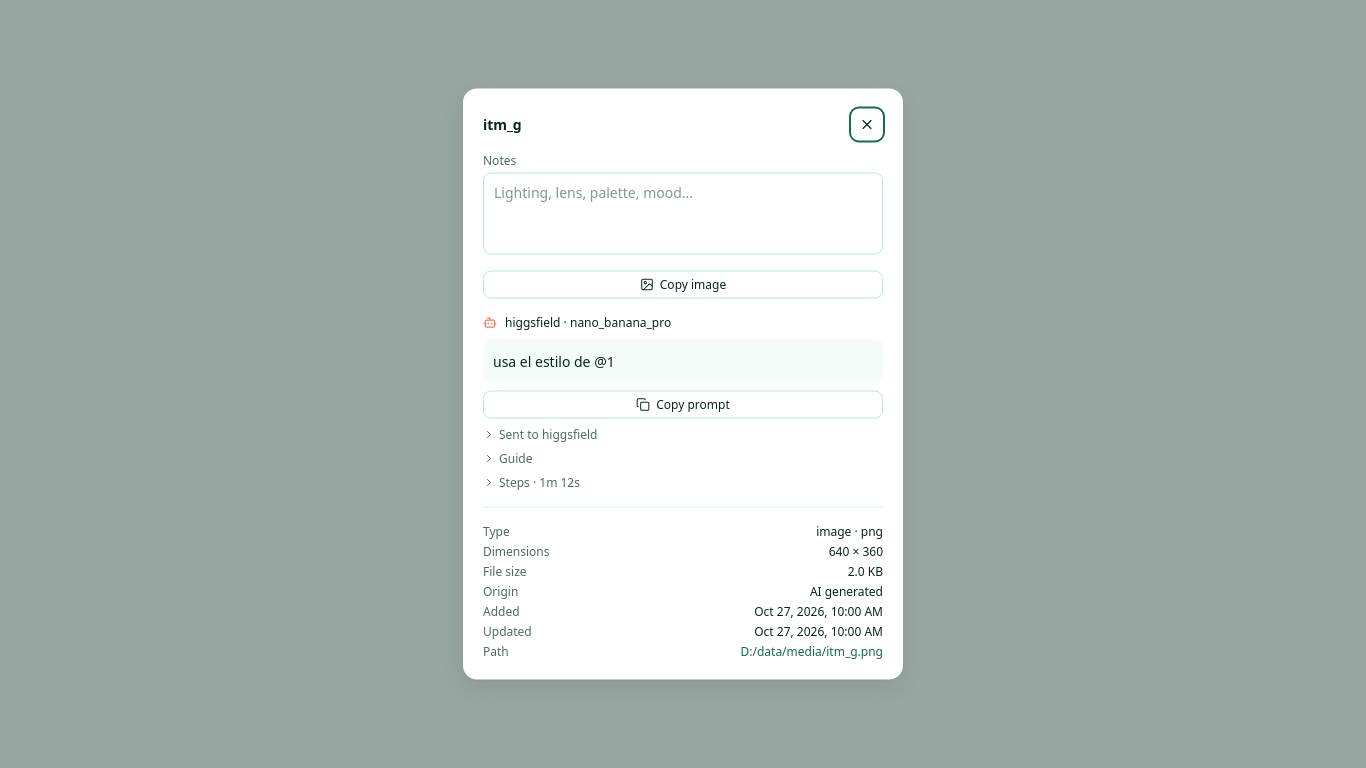
Scenario: Details › lists the steps of the run with their durations and the guide used
Click the button with test id "details-steps-toggle" at (532, 482), box [483,474,580,490]
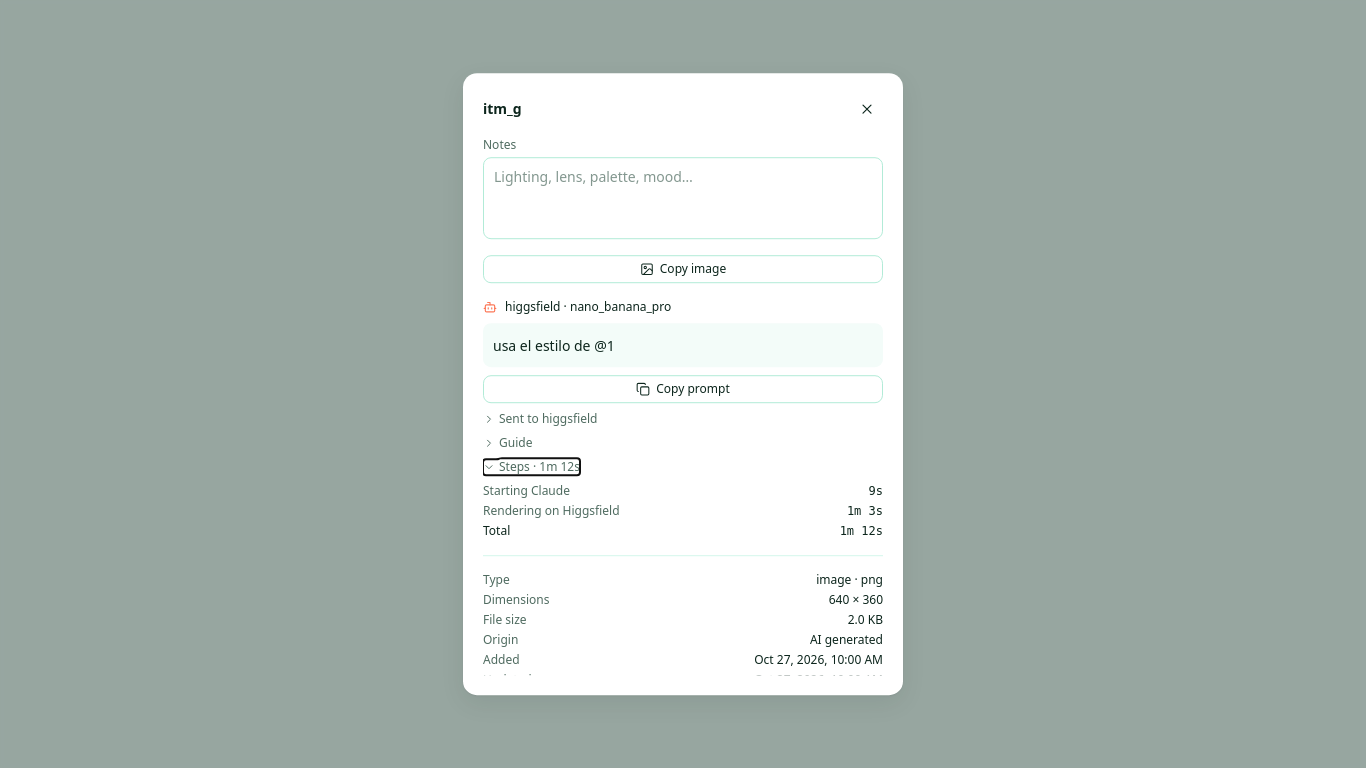
Expected: the elements with test id "details-step" read "Starting Claude9s", "Rendering on Higgsfield1m 3s", in this order, [483,483,883,499]; [483,503,883,519]
Expected: the text with test id "details-steps-total" reads "1m 12s", [840,524,883,538]
Click the button with test id "details-prompt-guide-toggle" at (508, 443), box [483,435,532,451]
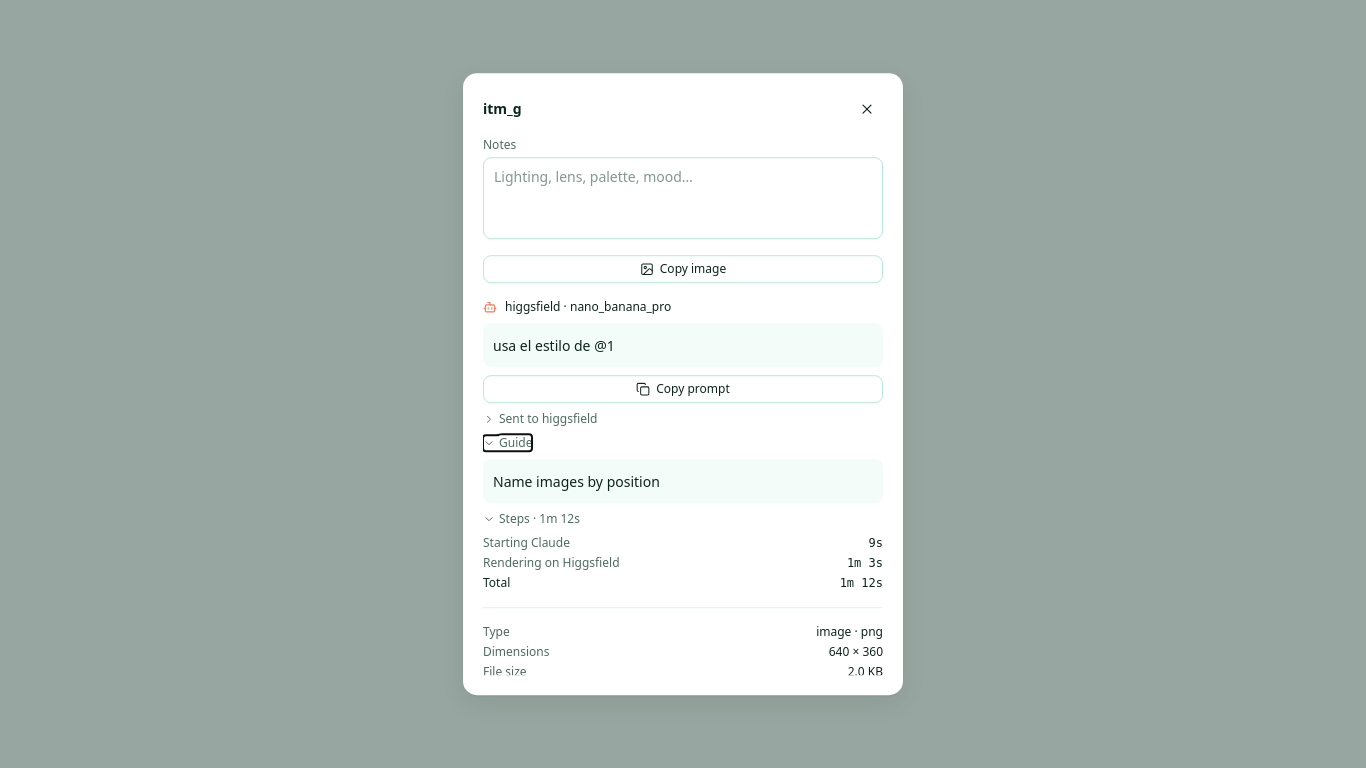
Expected: the text "Name images by position" is shown, [493,472,660,491]
